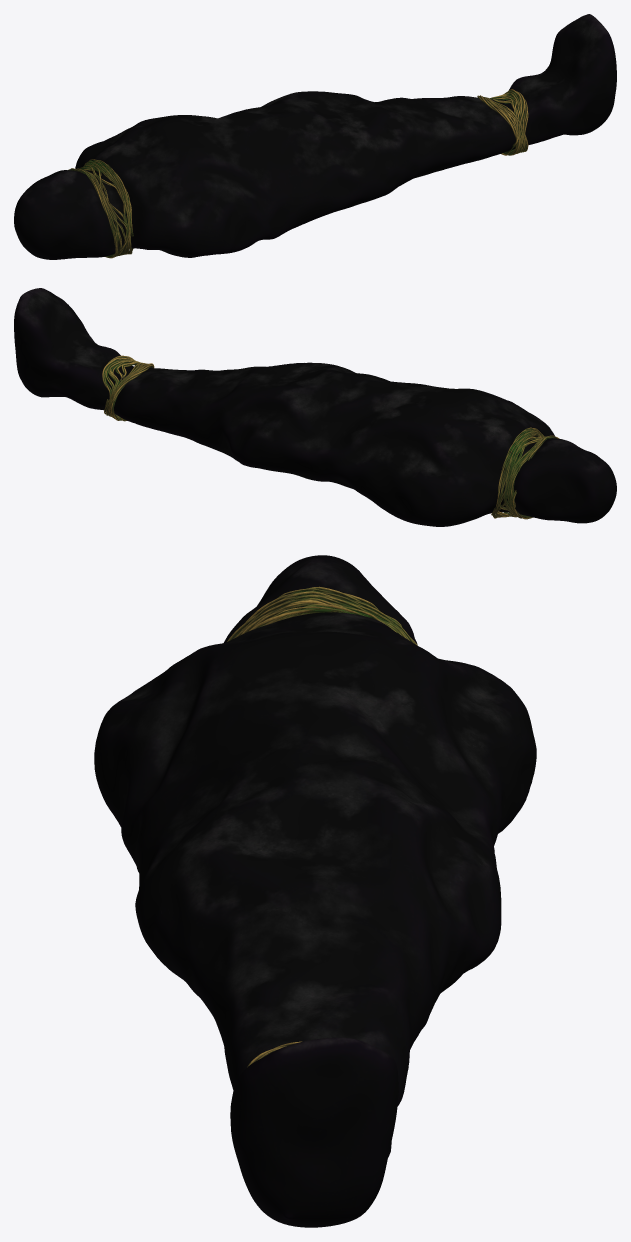
File: corpse_in_a_black_body_bag_with_ropes.glb
3 renders of one model, top to bottom at view 1: azimuth 30°, elevation 25°; view 2: azimuth 150°, elevation 25°; view 3: azimuth 270°, elevation 25°, orthographic. The views are drawn at different scales.
Parts seen in each view (by area): view 1: Corpse Bag, Rope Head, Rope Feet; view 2: Corpse Bag, Rope Head, Rope Feet; view 3: Corpse Bag, Rope Head.
Part boxes in pixels (box(x1,y1,x2,y2)): Corpse Bag: box(14, 14, 616, 259); Rope Head: box(68, 159, 133, 258); Rope Feet: box(477, 89, 528, 155); Corpse Bag: box(14, 288, 616, 526); Rope Head: box(491, 427, 559, 519); Rope Feet: box(102, 355, 154, 421); Corpse Bag: box(94, 555, 536, 1227); Rope Head: box(227, 586, 417, 645).
Size of the model in its own units: 2.02 by 0.3357 by 0.659.
3 materials, 3 textured.
